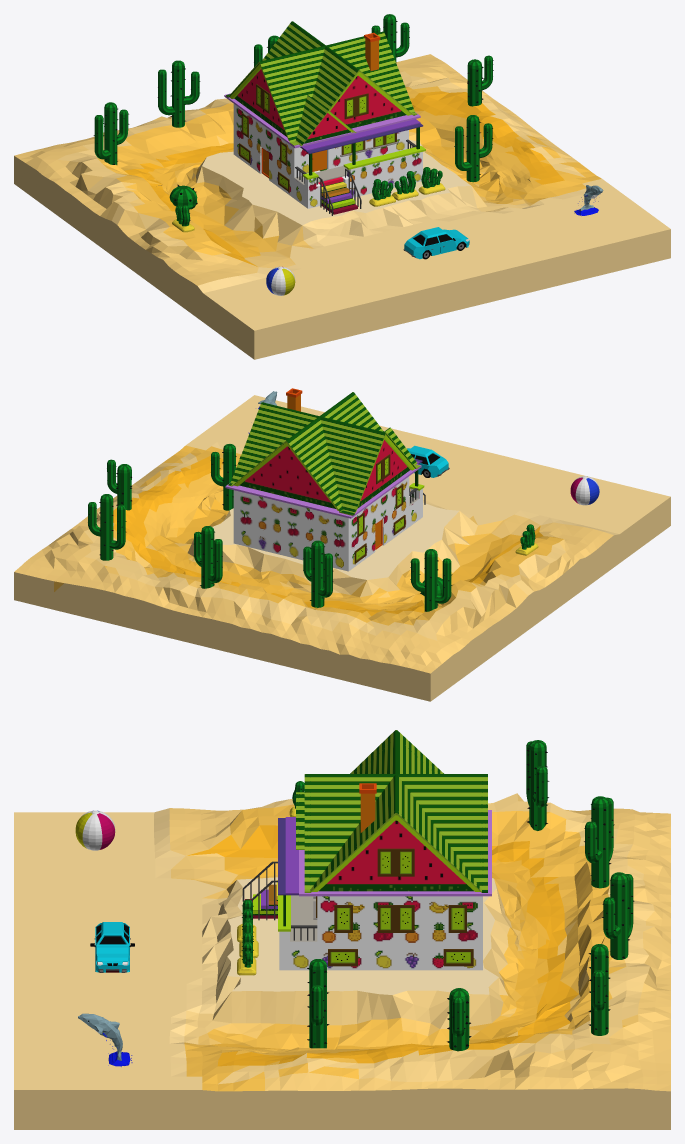
The picture shows the model from 3 angles, top to bottom: view 1: azimuth 30°, elevation 25°; view 2: azimuth 150°, elevation 25°; view 3: azimuth 270°, elevation 25°; orthographic projection. The views are drawn at different scales.
Visible parts, largest first — view 1: Cube.001, Cube.1063, Cylinder.037, Cylinder.044, Cylinder.045, VEHICLES_CAR, Cylinder.038, Cylinder.042, OBJRANDOM_BEACHBALL, Cylinder.039, Cylinder.041, Sphere.023 (+1 smaller); view 2: Cube.001, Cube.1063, Cylinder.042, Cylinder.045, Cylinder.044, Cylinder.043, Cylinder.037, Cylinder.038, VEHICLES_CAR, OBJRANDOM_BEACHBALL; view 3: Cube.001, Cube.1063, Cylinder.043, Cylinder.044, Cylinder.045, VEHICLES_CAR, Cylinder.042, Cylinder.037, OBJRANDOM_BEACHBALL, Cylinder.038, ANIMAL_DELFIN, Cylinder.041.
Part boxes in pixels (x1=…): Cube.001: x1=14, y1=54, x2=670, y2=359; Cube.1063: x1=224, y1=21, x2=425, y2=215; Cylinder.037: x1=454, y1=115, x2=493, y2=182; Cylinder.044: x1=157, y1=60, x2=200, y2=127; Cylinder.045: x1=93, y1=102, x2=129, y2=164; VEHICLES_CAR: x1=403, y1=227, x2=469, y2=259; Cylinder.038: x1=467, y1=55, x2=493, y2=106; Cylinder.042: x1=371, y1=14, x2=409, y2=62; OBJRANDOM_BEACHBALL: x1=266, y1=266, x2=295, y2=295; Cylinder.039: x1=369, y1=179, x2=395, y2=206; Cylinder.041: x1=418, y1=167, x2=445, y2=194; Sphere.023: x1=169, y1=184, x2=197, y2=209; Cube.001: x1=14, y1=395, x2=670, y2=701; Cube.1063: x1=225, y1=388, x2=425, y2=571; Cylinder.042: x1=88, y1=494, x2=126, y2=560; Cylinder.045: x1=410, y1=549, x2=452, y2=611; Cylinder.044: x1=303, y1=540, x2=333, y2=607; Cylinder.043: x1=193, y1=526, x2=222, y2=588; Cylinder.037: x1=211, y1=444, x2=240, y2=510; Cylinder.038: x1=107, y1=459, x2=131, y2=510; VEHICLES_CAR: x1=407, y1=445, x2=449, y2=477; OBJRANDOM_BEACHBALL: x1=570, y1=476, x2=599, y2=505; Cube.001: x1=14, y1=793, x2=670, y2=1129; Cube.1063: x1=242, y1=730, x2=491, y2=970; Cylinder.043: x1=602, y1=872, x2=634, y2=959; Cylinder.044: x1=584, y1=796, x2=614, y2=888; Cylinder.045: x1=526, y1=740, x2=549, y2=830; VEHICLES_CAR: x1=90, y1=922, x2=134, y2=972; Cylinder.042: x1=588, y1=944, x2=610, y2=1035; Cylinder.037: x1=307, y1=959, x2=329, y2=1048; OBJRANDOM_BEACHBALL: x1=75, y1=810, x2=115, y2=850; Cylinder.038: x1=447, y1=988, x2=471, y2=1051; ANIMAL_DELFIN: x1=78, y1=1013, x2=132, y2=1066; Cylinder.041: x1=237, y1=932, x2=256, y2=975.
Size of the model in its own units: 4002 by 1630 by 4001.
Materials: 32 (4 with a texture image).
